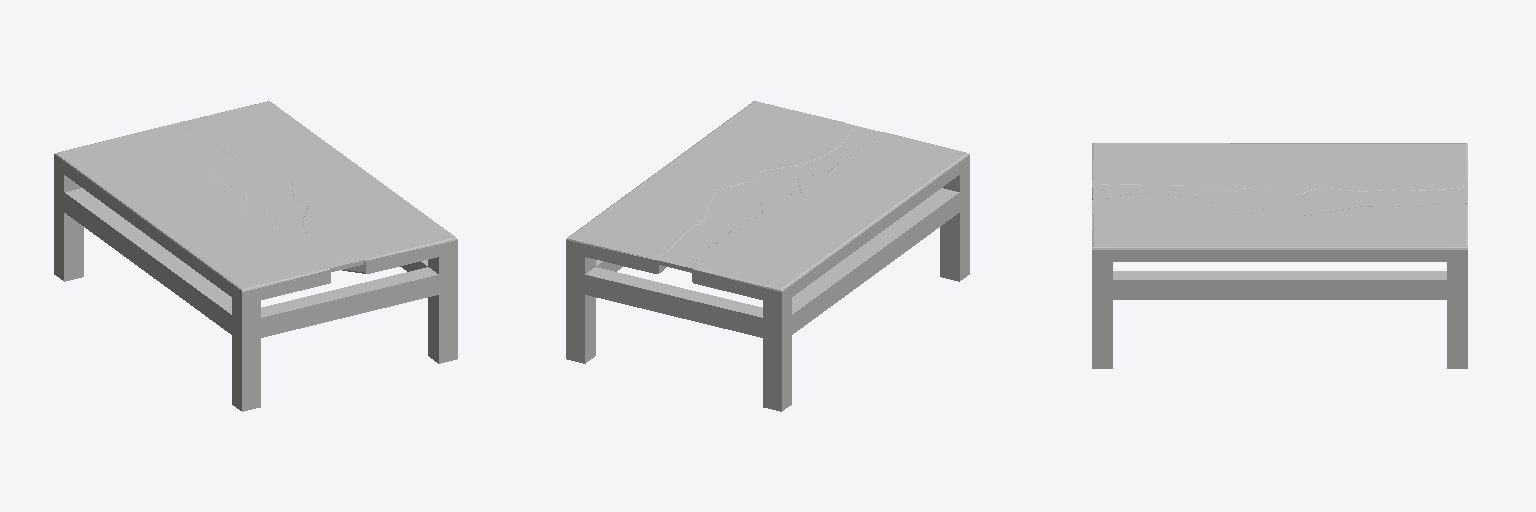
The model's file is tafel met gleuf.obj.
The picture shows the model from 3 angles: view 1: azimuth 30°, elevation 25°; view 2: azimuth 150°, elevation 25°; view 3: azimuth 270°, elevation 25°; orthographic projection.
Parts seen in each view (by area): view 1: Box002, Box003; view 2: Box002, Box003; view 3: Box002, Box003.
Boxes of the visible parts, box(x1,y1,x2,y2) form: Box002: box(54, 101, 457, 411); Box003: box(143, 123, 364, 271); Box002: box(566, 101, 969, 411); Box003: box(658, 123, 881, 272); Box002: box(1092, 143, 1467, 368); Box003: box(1093, 184, 1467, 216).
Size of the model in its own units: 2.34 by 1.26 by 3.54.